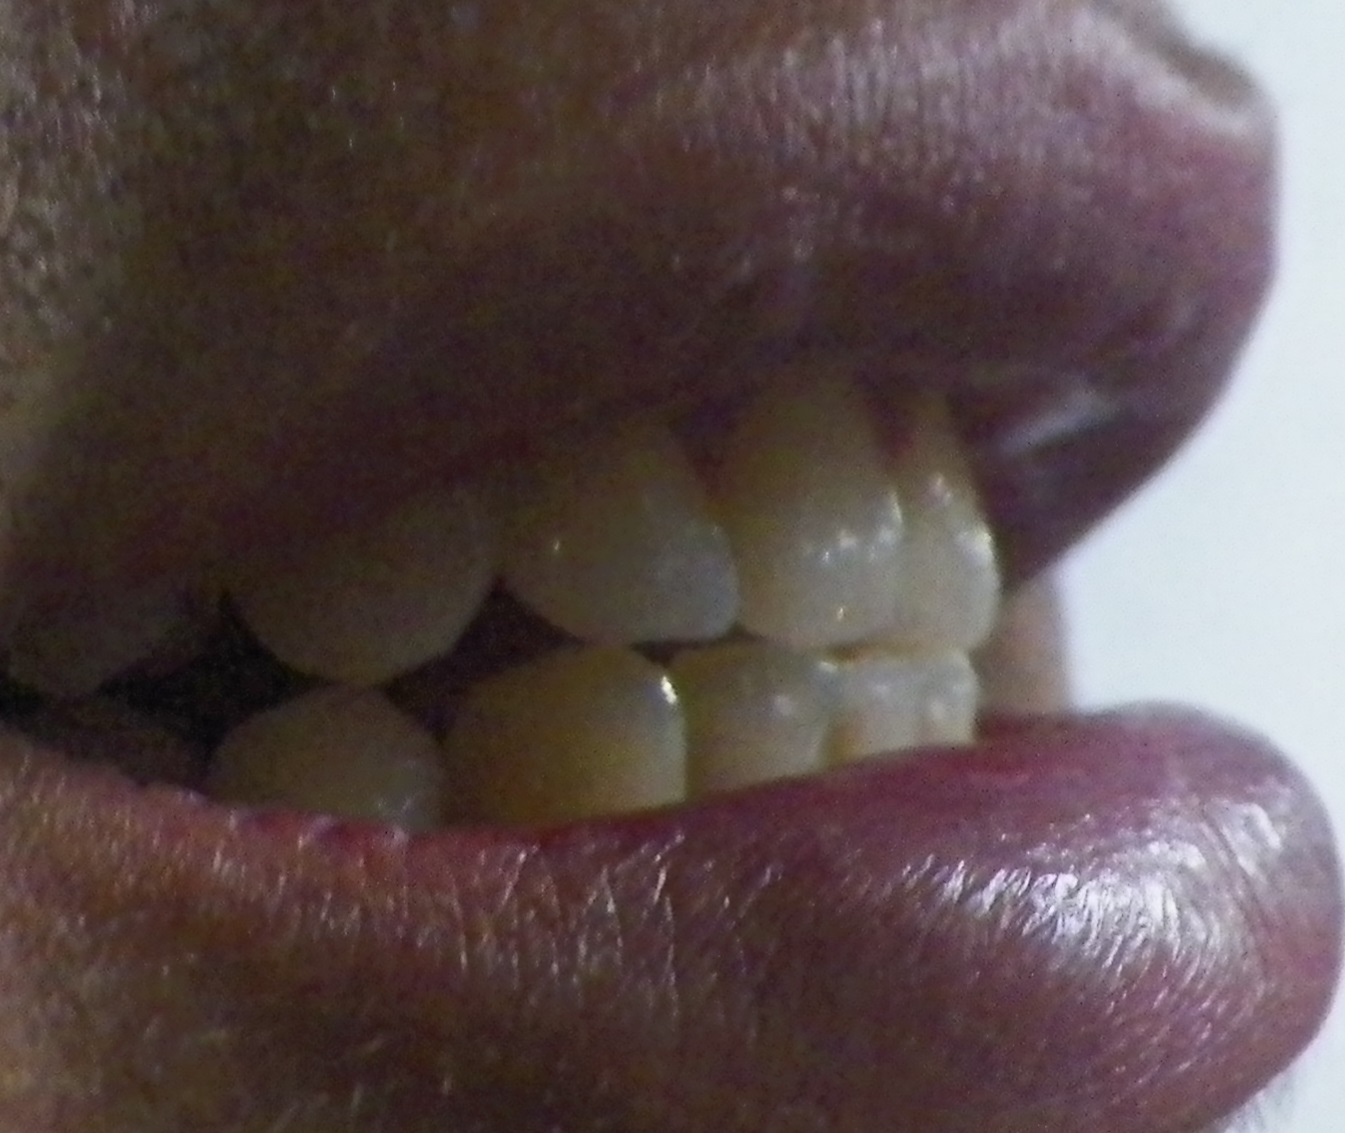boca: (93, 373, 1003, 812)
